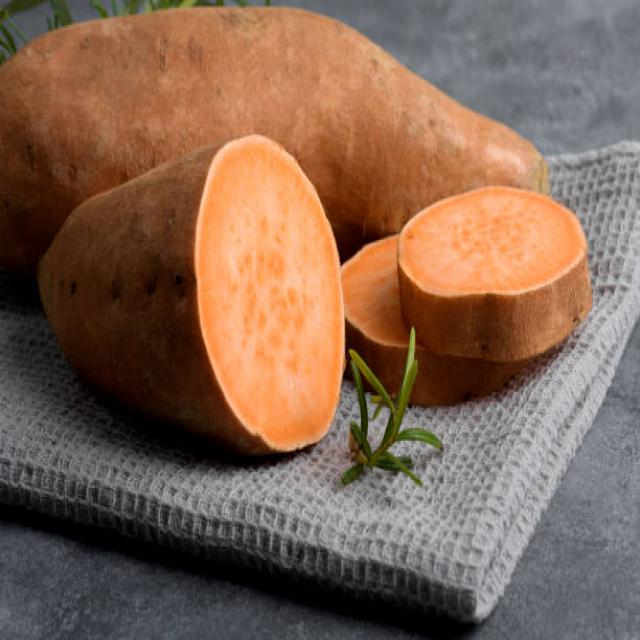Sweet Potato: (40, 136, 344, 454), (0, 1, 396, 137), (404, 184, 591, 331), (352, 50, 550, 186)
